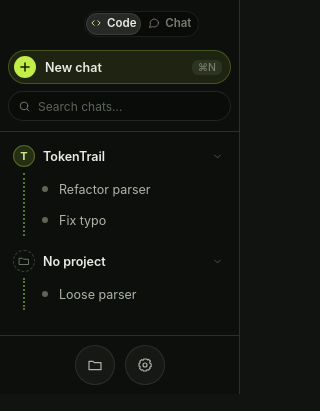
Sidebar order, timestamps and search › reveals matches in collapsed groups and restores collapse when cleared
Click the button named "Collapse TokenTrail".
click(217, 156)  # box [207,146,227,166]
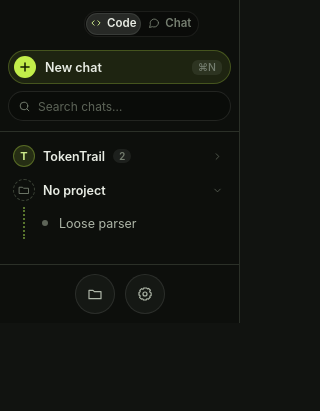
Click the button named "Collapse No project".
click(217, 190)  # box [207,180,227,200]
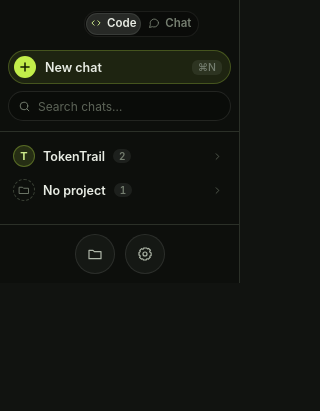
Type "  PARSER " into the search field labelled "Search chats".
click(132, 106); type("  PARSER ")  # box [38,91,226,121]
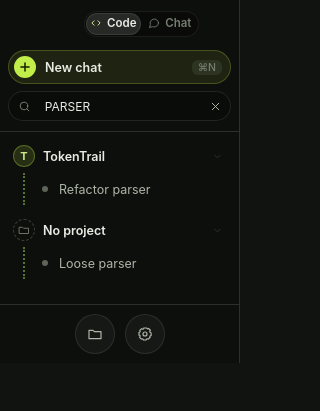
Expected: the button "Fix typo" is not shown
Result: the button "Refactor parser" is shown
Result: the button "Loose parser" is shown at [38,256,137,270]
Press Enter in the button "Refactor parser", box [38,182,150,196]
Click the button named "Clear chat search".
click(215, 106)  # box [204,95,226,117]
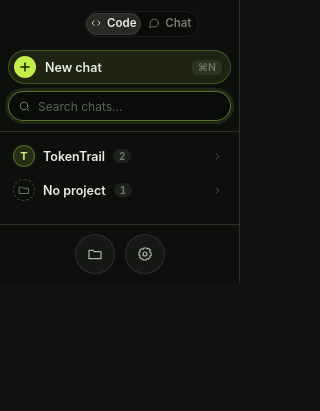
Result: the button "Refactor parser" is gone
Result: the button "Loose parser" is gone
